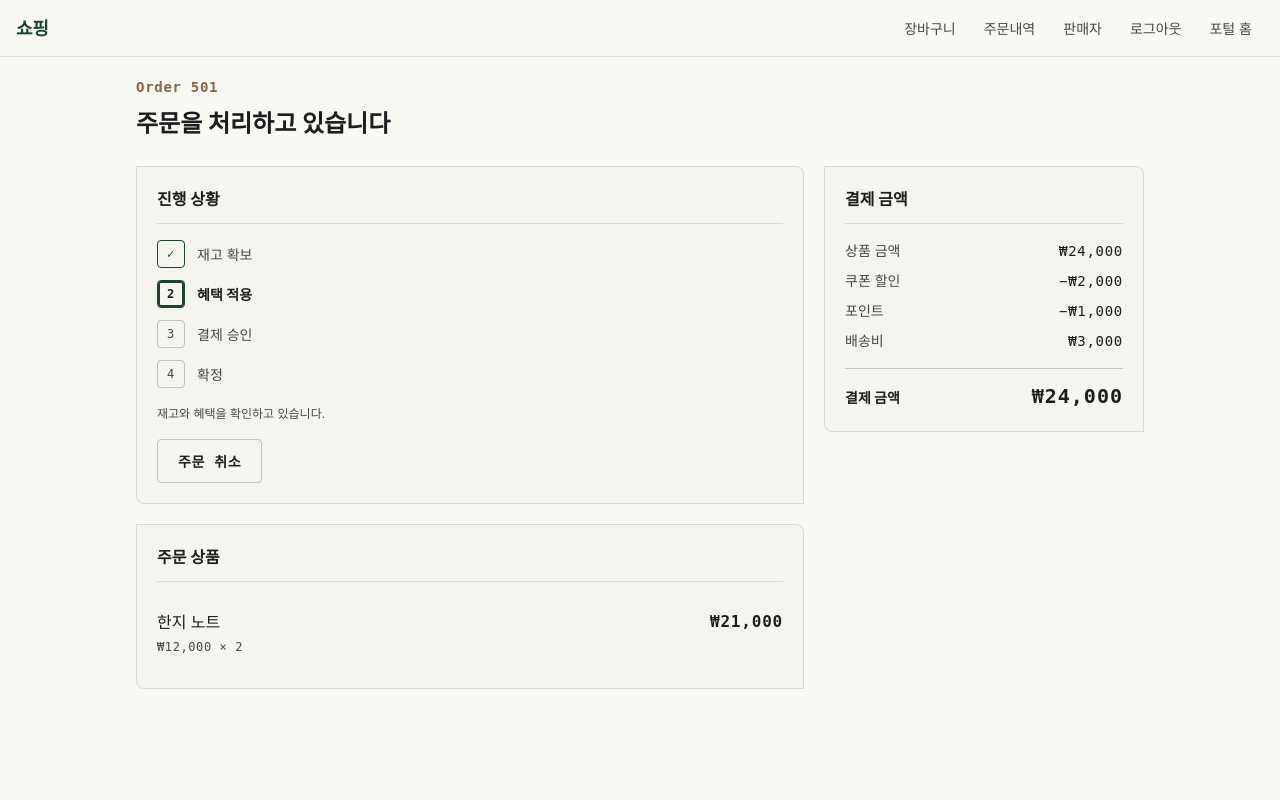
Test: 결제 대기 화면 › 주문 취소는 CREATED 에서만 — 누르면 취소 요청 뒤 결론까지 다시 폴링한다
Click the button "주문 취소" at (210, 461), box 157,439 -> 262,483
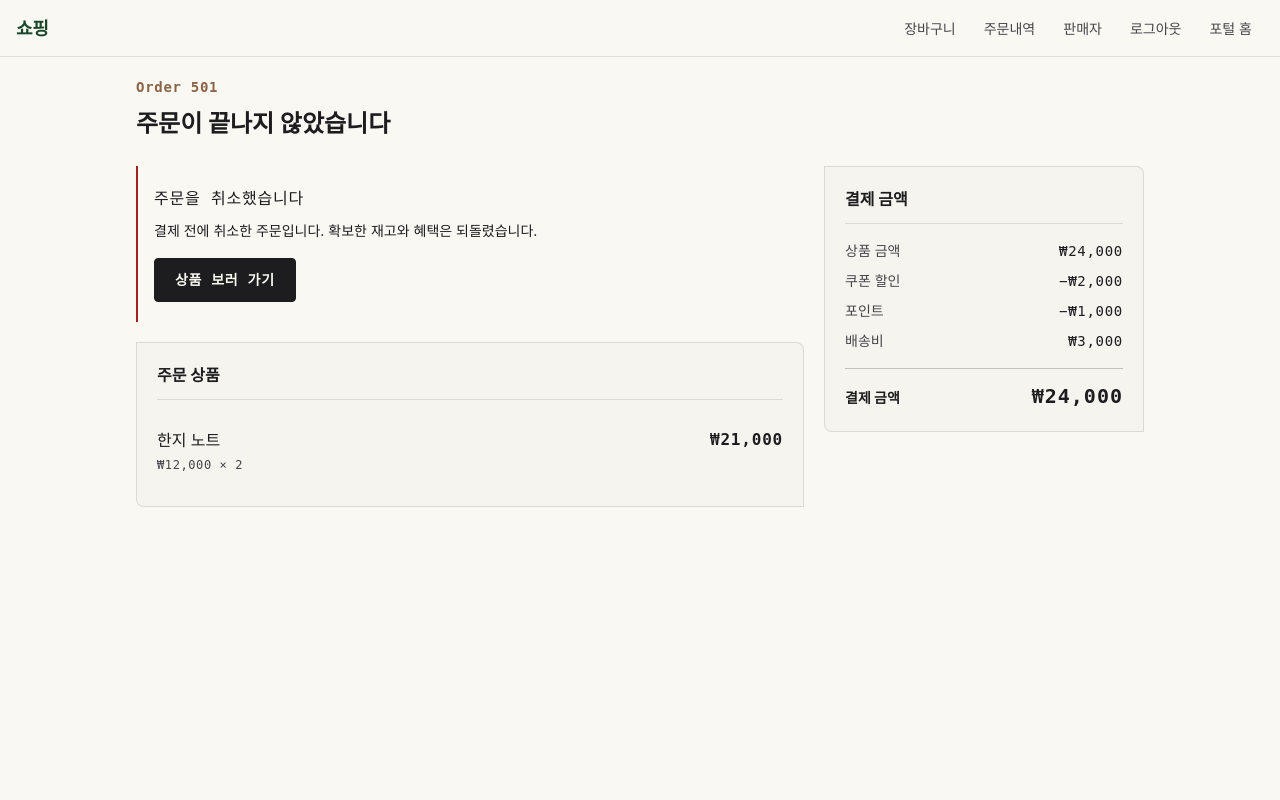
Result: the text "주문을 취소했습니다" is shown at 154,189 -> 304,208
